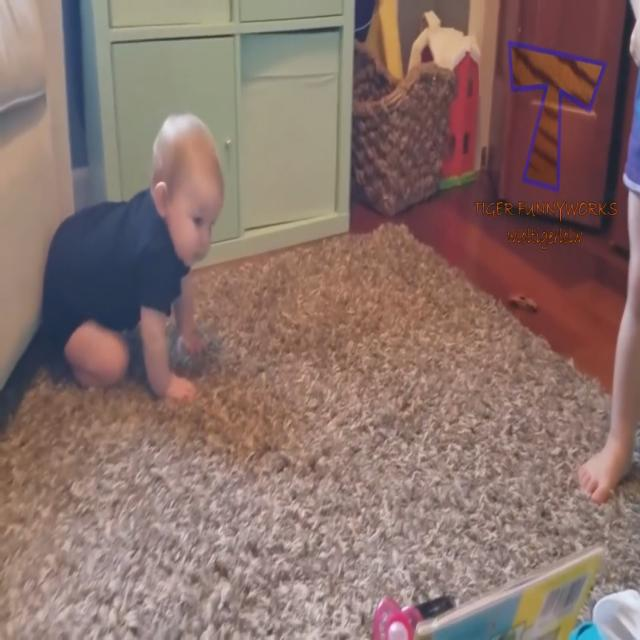safe: (58, 120, 228, 382)
